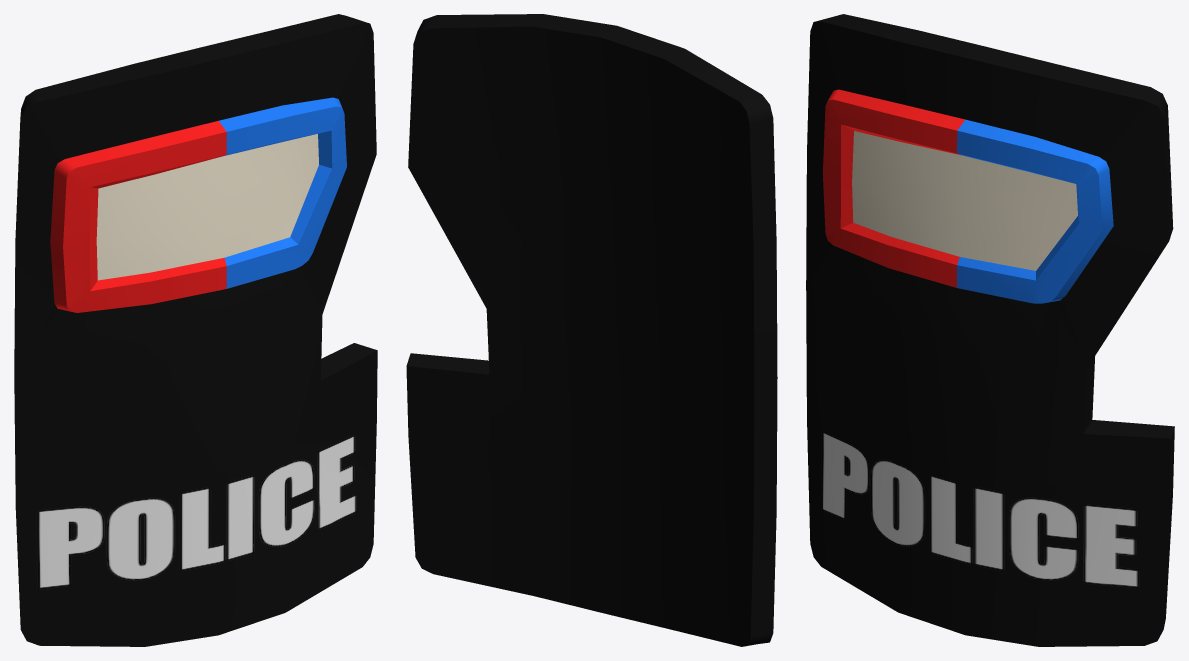
File: Shield.fbx
3 views of the same model, side by side, from view 1: azimuth 30°, elevation 25°; view 2: azimuth 150°, elevation 25°; view 3: azimuth 330°, elevation 25° (orthographic).
Parts seen in each view (by area): view 1: Shield; view 2: Shield; view 3: Shield.
Boxes of the visible parts, bbox=[...] form: Shield: bbox=[14, 14, 377, 646]; Shield: bbox=[406, 14, 777, 646]; Shield: bbox=[806, 14, 1174, 646].
Bounding box in the file's own units: 444 × 673 × 95.04.
